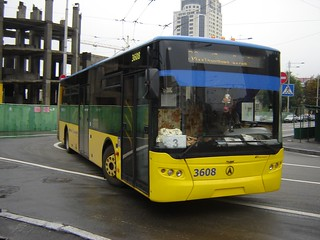bus: (57, 35, 283, 204)
